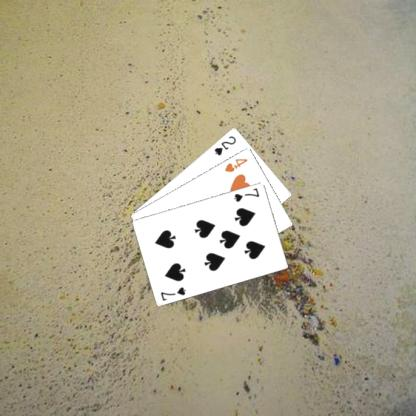2S: (212, 133, 237, 156)
4H: (222, 156, 249, 173)
7S: (158, 284, 187, 302), (232, 185, 260, 203)
